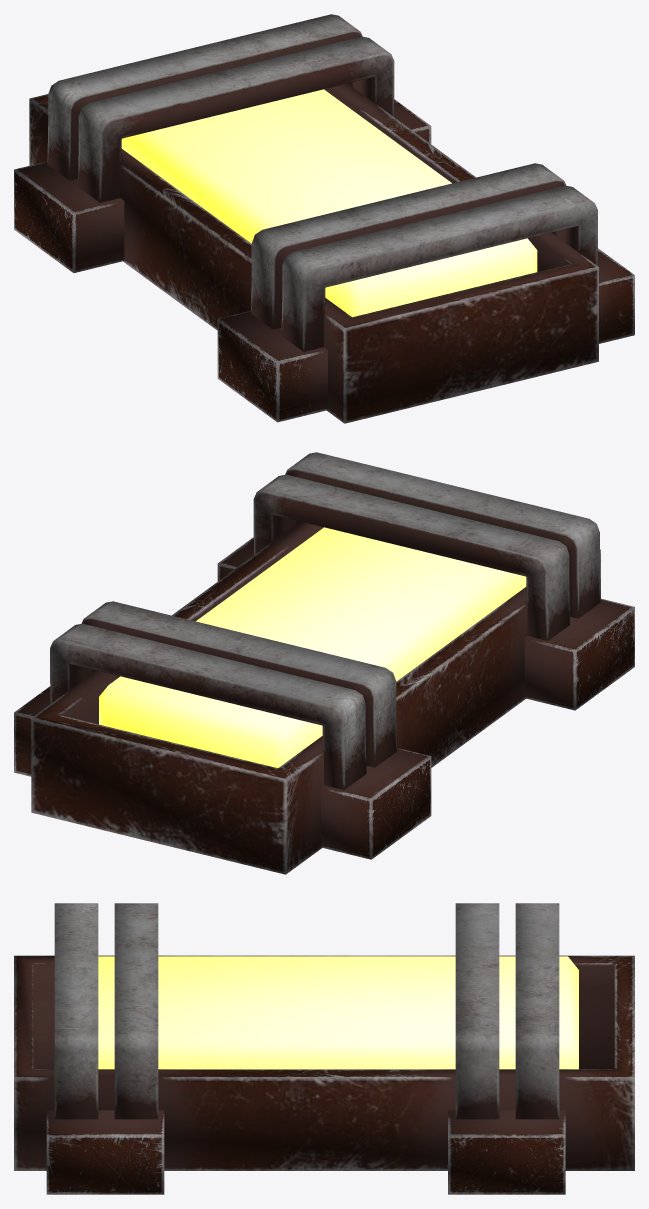
File: bunker_light.glb
3 views of the same model, one above another, from view 1: azimuth 30°, elevation 25°; view 2: azimuth 150°, elevation 25°; view 3: azimuth 270°, elevation 25° (orthographic).
Visible parts, largest first — view 1: bunker_light_1, bunker_light_2, bunker_light_0; view 2: bunker_light_1, bunker_light_2, bunker_light_0; view 3: bunker_light_1, bunker_light_0, bunker_light_2.
Boxes of the visible parts, x1,y1,x2,y2 form: bunker_light_1: [14, 83, 634, 423]; bunker_light_2: [47, 14, 597, 351]; bunker_light_0: [121, 89, 537, 317]; bunker_light_1: [14, 521, 634, 874]; bunker_light_2: [50, 452, 600, 789]; bunker_light_0: [99, 527, 526, 767]; bunker_light_1: [14, 955, 634, 1194]; bunker_light_0: [98, 956, 578, 1069]; bunker_light_2: [54, 903, 559, 1119].
Bounding box in the file's own units: 0.622 × 0.237 × 0.95.
Materials: 2 (1 with a texture image).
